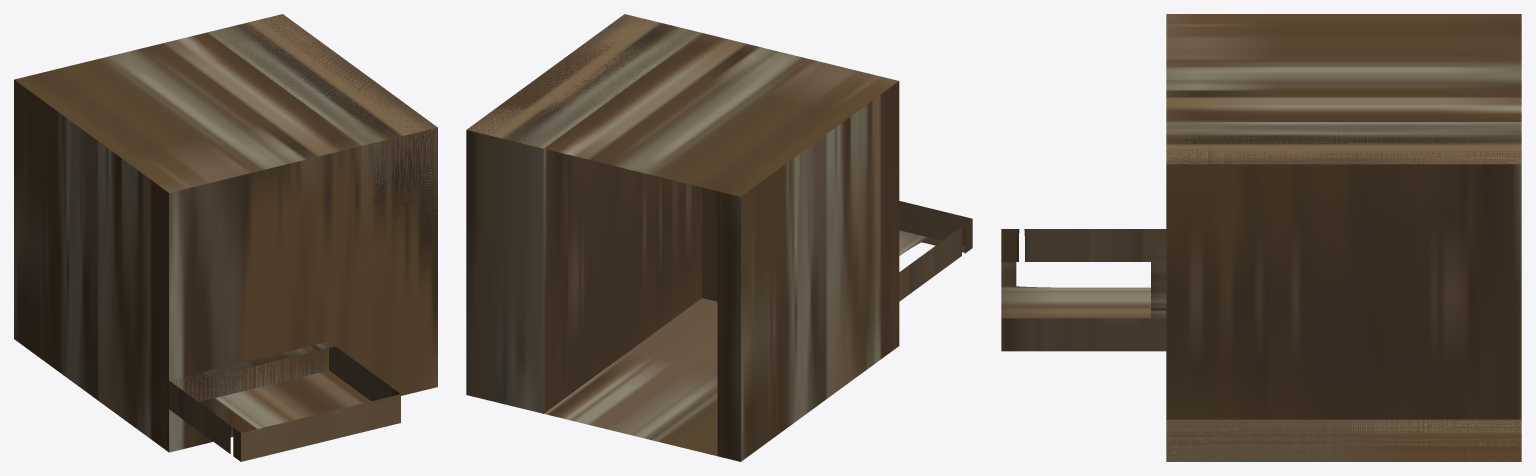
The model's file is section-6.obj.
The picture shows the model from 3 angles, left to right: view 1: azimuth 30°, elevation 25°; view 2: azimuth 150°, elevation 25°; view 3: azimuth 270°, elevation 25°; orthographic projection. The views are drawn at different scales.
Size of the model in its own units: 0.9165 by 0.846 by 1.34.
